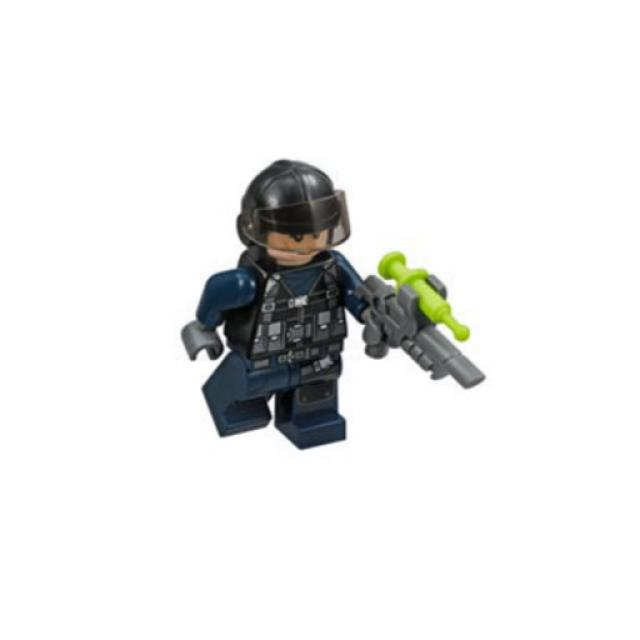Lego-Minifigures: (162, 144, 530, 516)
